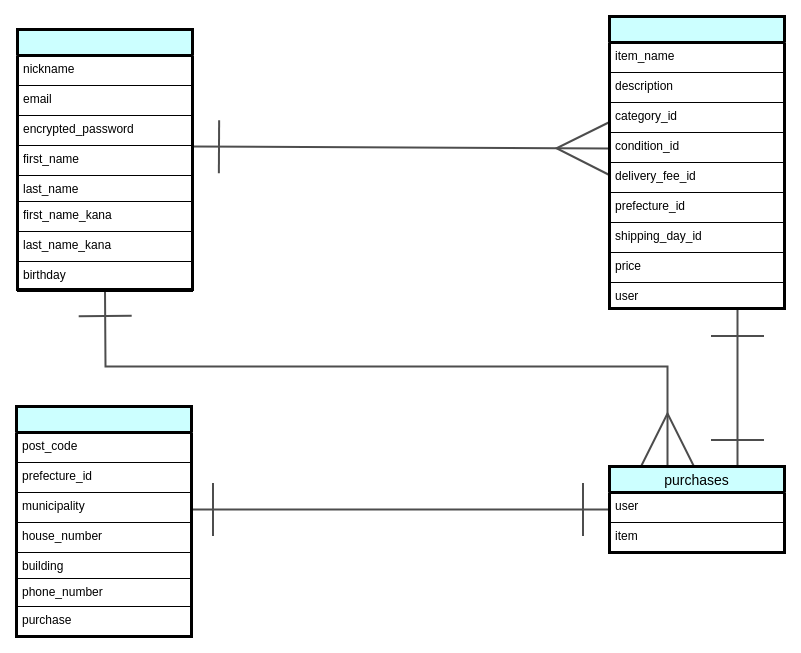
The diagram is 801 pixels wide and 653 high, and some of its shapes have lost their labels. Here are the shapes that lost their labels. From the top down, the box of each, then its label:
(16, 28, 194, 290): users
(608, 14, 786, 310): items
(14, 404, 192, 638): posts
